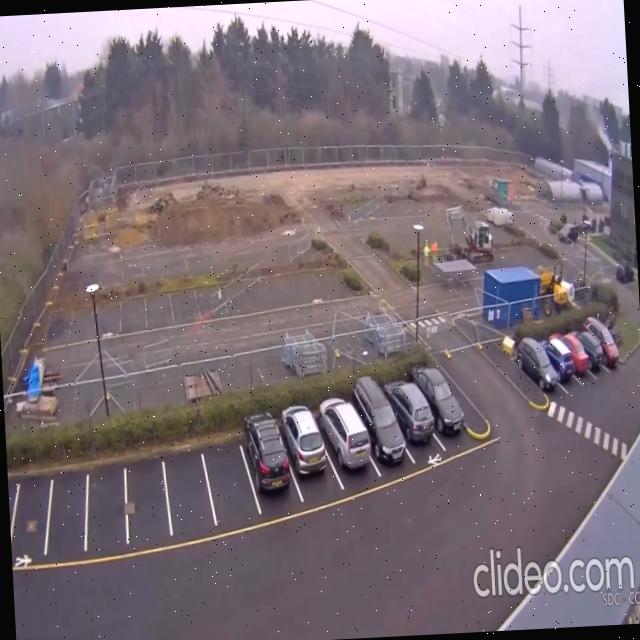empty: (202, 444, 263, 535), (162, 453, 221, 545), (124, 463, 175, 556), (11, 478, 53, 570), (45, 474, 87, 565), (86, 468, 127, 560), (8, 481, 20, 537)
occupied: (409, 356, 474, 442), (353, 369, 402, 468), (313, 398, 372, 476), (238, 404, 285, 501), (278, 392, 324, 480), (386, 376, 434, 452), (512, 327, 556, 398), (555, 320, 593, 380), (588, 310, 621, 366), (538, 323, 568, 376), (575, 312, 602, 368)
